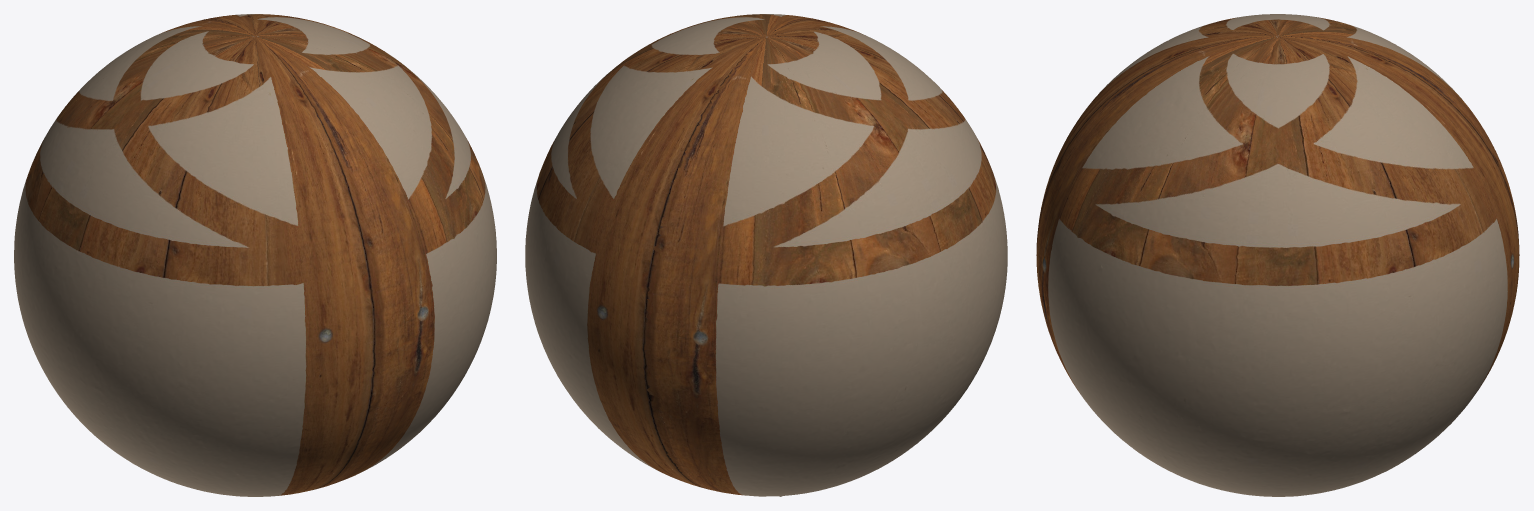
Rendered from plaster_wood_wall_1k.glb.
3 renders of one model, left to right at view 1: azimuth 30°, elevation 25°; view 2: azimuth 150°, elevation 25°; view 3: azimuth 270°, elevation 25°, orthographic.
Visible parts, largest first — view 1: sphere_gltf; view 2: sphere_gltf; view 3: sphere_gltf.
Boxes of the visible parts, left/top/right/bottom form: sphere_gltf: left=14, top=14, right=496, bottom=496; sphere_gltf: left=525, top=14, right=1007, bottom=496; sphere_gltf: left=1036, top=14, right=1519, bottom=496.
Bounding box in the file's own units: 3 × 3 × 3.
1 material, 1 textured.
